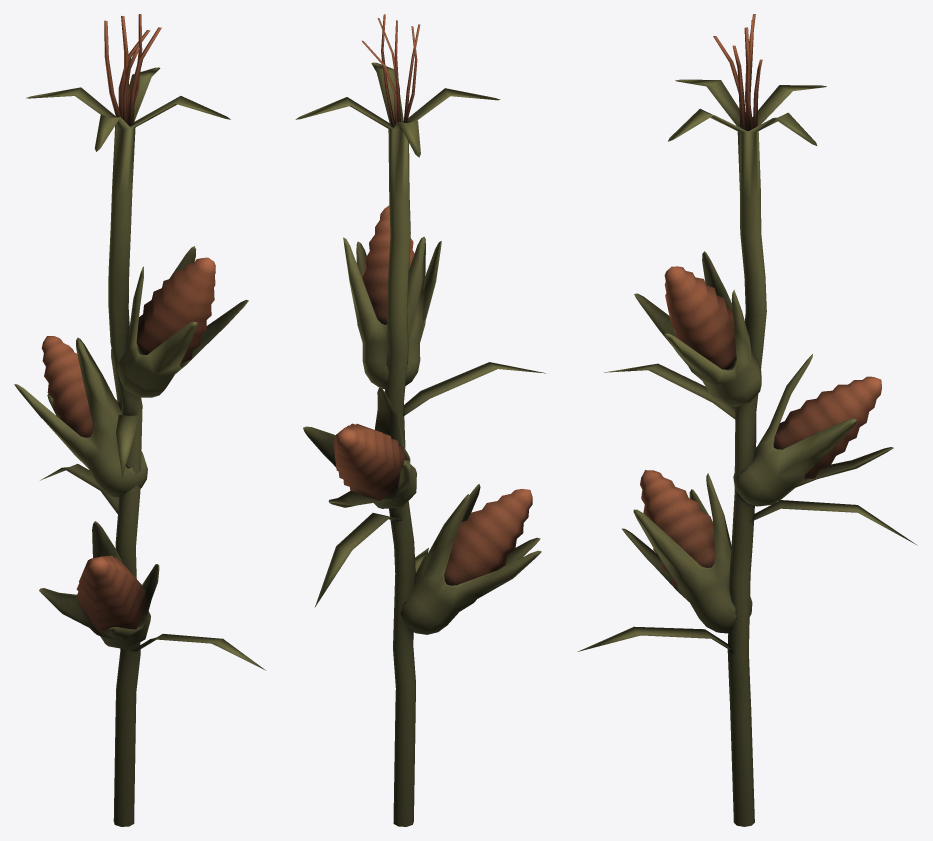
The model's file is work.fbx.
3 renders of one model, left to right at view 1: azimuth 30°, elevation 25°; view 2: azimuth 150°, elevation 25°; view 3: azimuth 270°, elevation 25°, orthographic.
Parts seen in each view (by area): view 1: Corn_Stalk; view 2: Corn_Stalk; view 3: Corn_Stalk.
Boxes of the visible parts, left/top/right/bottom form: Corn_Stalk: left=14, top=14, right=265, bottom=826; Corn_Stalk: left=295, top=14, right=545, bottom=826; Corn_Stalk: left=577, top=14, right=917, bottom=826.
Size of the model in its own units: 362 by 1409 by 545.
Materials: 1 (1 with a texture image).
